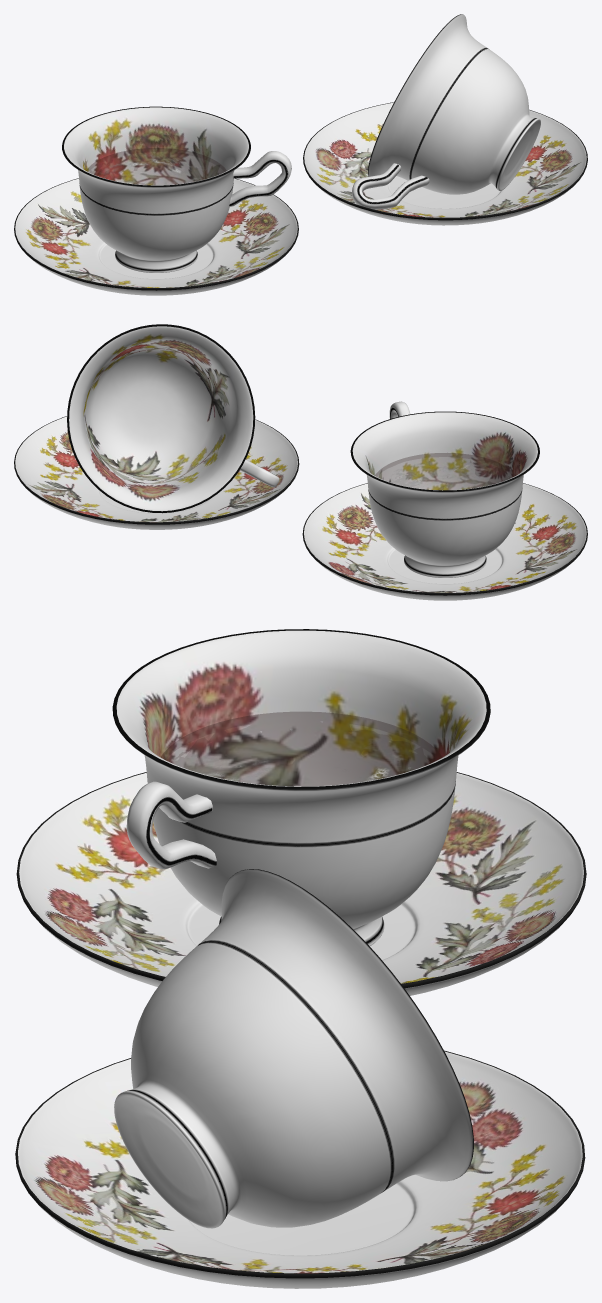
The model's file is cup_tea.glb.
3 views of the same model, one above another, from view 1: azimuth 30°, elevation 25°; view 2: azimuth 150°, elevation 25°; view 3: azimuth 270°, elevation 25° (orthographic). The views are drawn at different scales.
Visible parts, largest first — view 1: Line004_Cup_0, Line008_Cup_1_0, Line003_Saucer_1_0, Line007_Saucer_1_0, Object002_Tea_0, Line004_Cup_1_0; view 2: Line008_Cup_1_0, Line004_Cup_0, Line003_Saucer_1_0, Line007_Saucer_1_0, Object002_Tea_0; view 3: Line008_Cup_1_0, Line004_Cup_0, Line007_Saucer_1_0, Line003_Saucer_1_0, Object002_Tea_0, Line004_Cup_1_0.
Boxes of the visible parts, x1,y1,x2,y2 form: Line004_Cup_0: (62, 106, 250, 272); Line008_Cup_1_0: (352, 14, 540, 209); Line003_Saucer_1_0: (14, 178, 298, 295); Line007_Saucer_1_0: (303, 102, 587, 225); Object002_Tea_0: (86, 148, 226, 184); Line004_Cup_1_0: (229, 151, 291, 206); Line008_Cup_1_0: (67, 324, 279, 513); Line004_Cup_0: (350, 411, 539, 577); Line003_Saucer_1_0: (302, 483, 587, 600); Line007_Saucer_1_0: (14, 416, 299, 529); Object002_Tea_0: (375, 453, 515, 489); Line008_Cup_1_0: (114, 869, 473, 1228); Line004_Cup_0: (112, 629, 490, 946); Line007_Saucer_1_0: (15, 1050, 585, 1288); Line003_Saucer_1_0: (16, 772, 586, 995); Object002_Tea_0: (161, 712, 442, 785); Line004_Cup_1_0: (126, 781, 216, 869).
Size of the model in its own units: 0.3789 by 0.1141 by 0.1751.
Materials: 4 (4 with a texture image).
